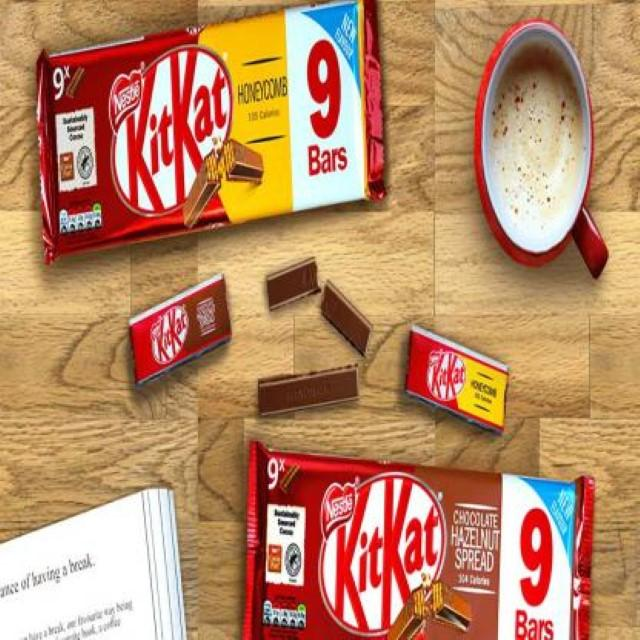kitkat_chocolate: (258, 425, 604, 640), (40, 35, 387, 247), (412, 306, 516, 426), (97, 298, 228, 388)
